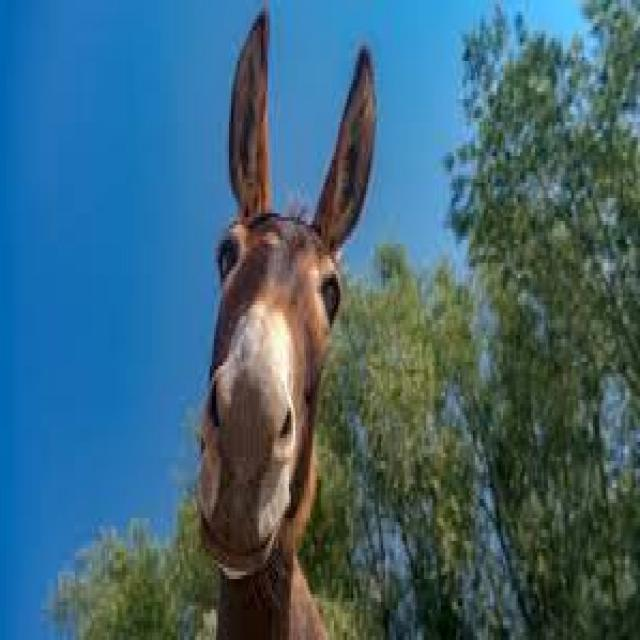donkey: (199, 11, 375, 636)
